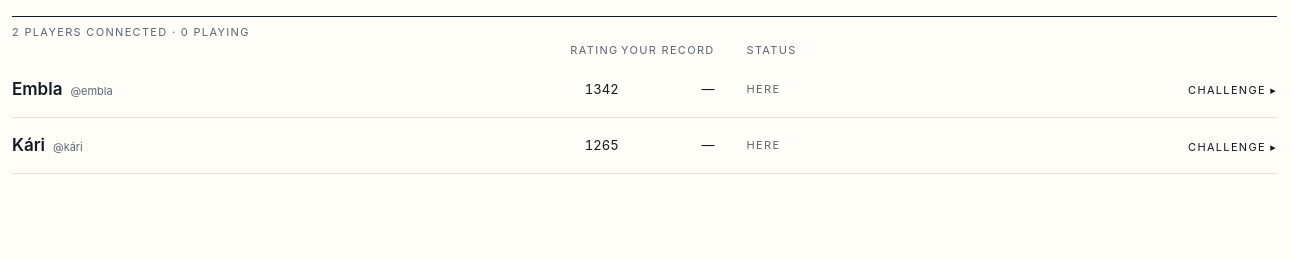
Scenario: the composer row › says what sending cancels
Click the button with aria-label "Embla · challenge": (1232, 90) [1188,78,1277,102]
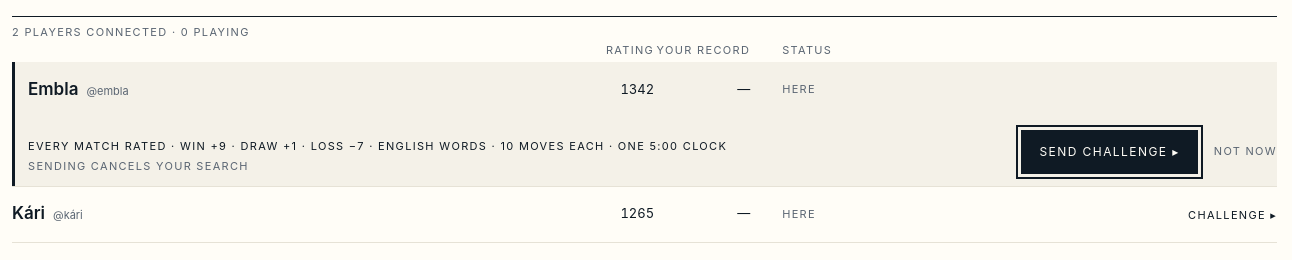
Expected: the text "sending cancels your search" is shown, [28,159,249,173]
